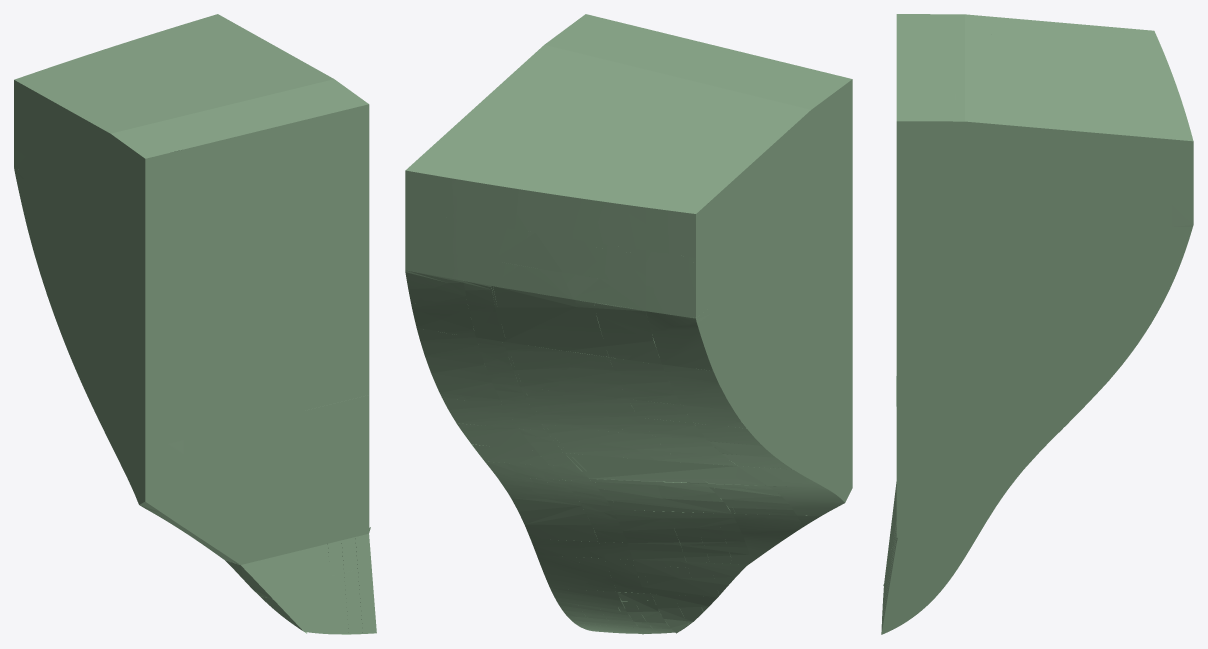
Rendered from NO_1_DIESEL_OIL_TK_PS.glb.
3 views of the same model, side by side, from view 1: azimuth 30°, elevation 25°; view 2: azimuth 150°, elevation 25°; view 3: azimuth 270°, elevation 25° (orthographic). The views are drawn at different scales.
Parts seen in each view (by area): view 1: PL_LBHDxEPRP_016001-15.5_NVA_1993, PL_LBHDxEPRP_013001-15_NVA_1993, PL_LBHDxEPRP_014001-13.5_NVA_1993, PL_LBHDxEPRP_012002-16.5_NVA_1993, PL_LBHDxEPRP_011001-17_NVA_1993, PL_LBHDxEPRP_035002-18_NVA_1993, PL_UDxEPRP_049001-14.5_NVA_1993, PL_UDxEPRP_043001-14.5_NVA_1993, PL_LBHDxEPRP_015002-13_NVA_1993, PL_LBHDxEPRP_002009-17_NVA32_1993, PL_LBHDxEPRP_012001-16.5_NVA_1993, PL_UDxEPRP_048001-14.5_NVA_1993 (+63 smaller); view 2: PL_OuterShellxEPRP_059001-17_NVA_1993, PL_UDxEPRP_049001-14.5_NVA_1993, PL_OuterShellxEPRP_053001-17_NVA_1993, PL_OuterShellxEPRP_070001-17_NVA_1993, PL_UDxEPRP_048001-14.5_NVA_1993, PL_UDxEPRP_051001-14.5_NVA_1993, PL_OuterShellxEPRP_064001-17_NVA_1993, PL_UDxEPRP_043001-14.5_NVA_1993, PL_OuterShellxEPRP_052001-17_NVA_1993, PL_TransxFR40P_014002-12.5_NVA_1993, PL_OuterShellxEPRP_054001-17_NVA_1993, PL_TransxFR40P_014001-12.5_NVA_1993 (+72 smaller); view 3: PL_SideTransBHDxBHD51P_009004-14_NVA_1993, PL_SideTransBHDxBHD51P_010002-14_NVA32_1993, PL_SideTransBHDxBHD51P_006002-15.5_NVA32_1993, PL_SideTransBHDxBHD51P_004002-17_NVA32_1993, PL_SideTransBHDxBHD51P_015003-13.5_NVA_1993, PL_SideTransBHDxBHD51P_012003-13.5_NVA_1993, PL_SideTransBHDxBHD51P_005002-15.5_NVA32_1993, PL_UDxEPRP_049001-14.5_NVA_1993, PL_SideTransBHDxBHD51P_013007-13.5_NVA_1993, PL_UDxEPRP_051001-14.5_NVA_1993, PL_SideTransBHDxBHD51P_008004-14.5_NVA32_1993, PL_SideTransBHDxBHD51P_014003-13.5_NVA32_1993 (+34 smaller).
Part boxes in pixels (x1,y1,x2,y2): PL_LBHDxEPRP_016001-15.5_NVA_1993: (183,120,305,212); PL_LBHDxEPRP_013001-15_NVA_1993: (183,279,305,369); PL_LBHDxEPRP_014001-13.5_NVA_1993: (183,232,305,309); PL_LBHDxEPRP_012002-16.5_NVA_1993: (183,367,305,440); PL_LBHDxEPRP_011001-17_NVA_1993: (183,410,305,480); PL_LBHDxEPRP_035002-18_NVA_1993: (183,452,305,521); PL_UDxEPRP_049001-14.5_NVA_1993: (74,52,234,104); PL_UDxEPRP_043001-14.5_NVA_1993: (154,98,304,149); PL_LBHDxEPRP_015002-13_NVA_1993: (183,203,305,261); PL_LBHDxEPRP_002009-17_NVA32_1993: (323,437,369,519); PL_LBHDxEPRP_012001-16.5_NVA_1993: (183,340,305,396); PL_UDxEPRP_048001-14.5_NVA_1993: (117,77,269,124); PL_OuterShellxEPRP_059001-17_NVA_1993: (491,286,661,364); PL_UDxEPRP_049001-14.5_NVA_1993: (531,101,723,179); PL_OuterShellxEPRP_053001-17_NVA_1993: (504,342,681,404); PL_OuterShellxEPRP_070001-17_NVA_1993: (492,185,645,250); PL_UDxEPRP_048001-14.5_NVA_1993: (583,63,765,132); PL_UDxEPRP_051001-14.5_NVA_1993: (487,144,675,207); PL_OuterShellxEPRP_064001-17_NVA_1993: (491,225,645,285); PL_UDxEPRP_043001-14.5_NVA_1993: (626,32,806,94); PL_OuterShellxEPRP_052001-17_NVA_1993: (520,387,704,437); PL_TransxFR40P_014002-12.5_NVA_1993: (740,227,786,351); PL_OuterShellxEPRP_054001-17_NVA_1993: (541,424,736,465); PL_TransxFR40P_014001-12.5_NVA_1993: (740,132,786,259); PL_SideTransBHDxBHD51P_009004-14_NVA_1993: (1027,249,1185,319); PL_SideTransBHDxBHD51P_010002-14_NVA32_1993: (896,249,1007,319); PL_SideTransBHDxBHD51P_006002-15.5_NVA32_1993: (896,381,1007,447); PL_SideTransBHDxBHD51P_004002-17_NVA32_1993: (896,448,1007,520); PL_SideTransBHDxBHD51P_015003-13.5_NVA_1993: (940,121,1026,184); PL_SideTransBHDxBHD51P_012003-13.5_NVA_1993: (1081,131,1151,202); PL_SideTransBHDxBHD51P_005002-15.5_NVA32_1993: (1007,381,1107,447); PL_UDxEPRP_049001-14.5_NVA_1993: (1034,38,1112,103); PL_SideTransBHDxBHD51P_013007-13.5_NVA_1993: (940,203,1026,249); PL_UDxEPRP_051001-14.5_NVA_1993: (1112,45,1184,109); PL_SideTransBHDxBHD51P_008004-14.5_NVA32_1993: (896,349,1007,381); PL_SideTransBHDxBHD51P_014003-13.5_NVA32_1993: (896,121,940,202).
Bounding box in the file's own units: 13.14 × 29.05 × 16.
